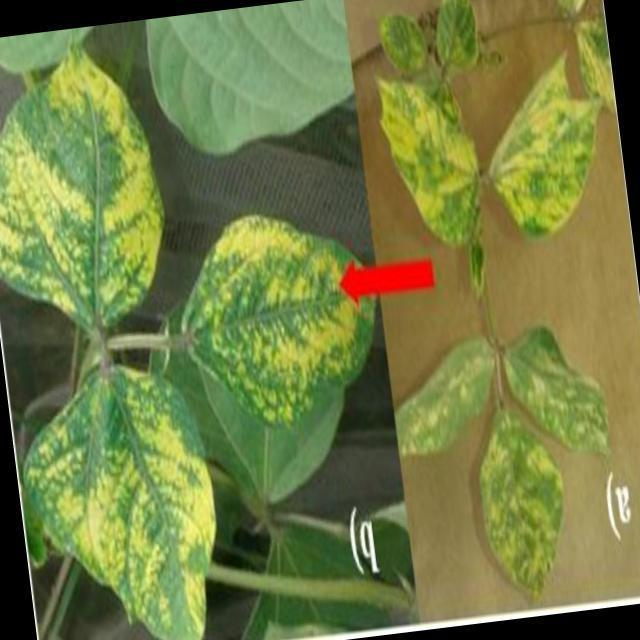Mosaic Virus: (20, 385, 223, 640), (0, 47, 171, 344), (172, 218, 356, 430), (471, 417, 581, 608), (489, 90, 610, 238), (378, 76, 485, 239), (504, 346, 622, 488), (386, 348, 502, 464)
